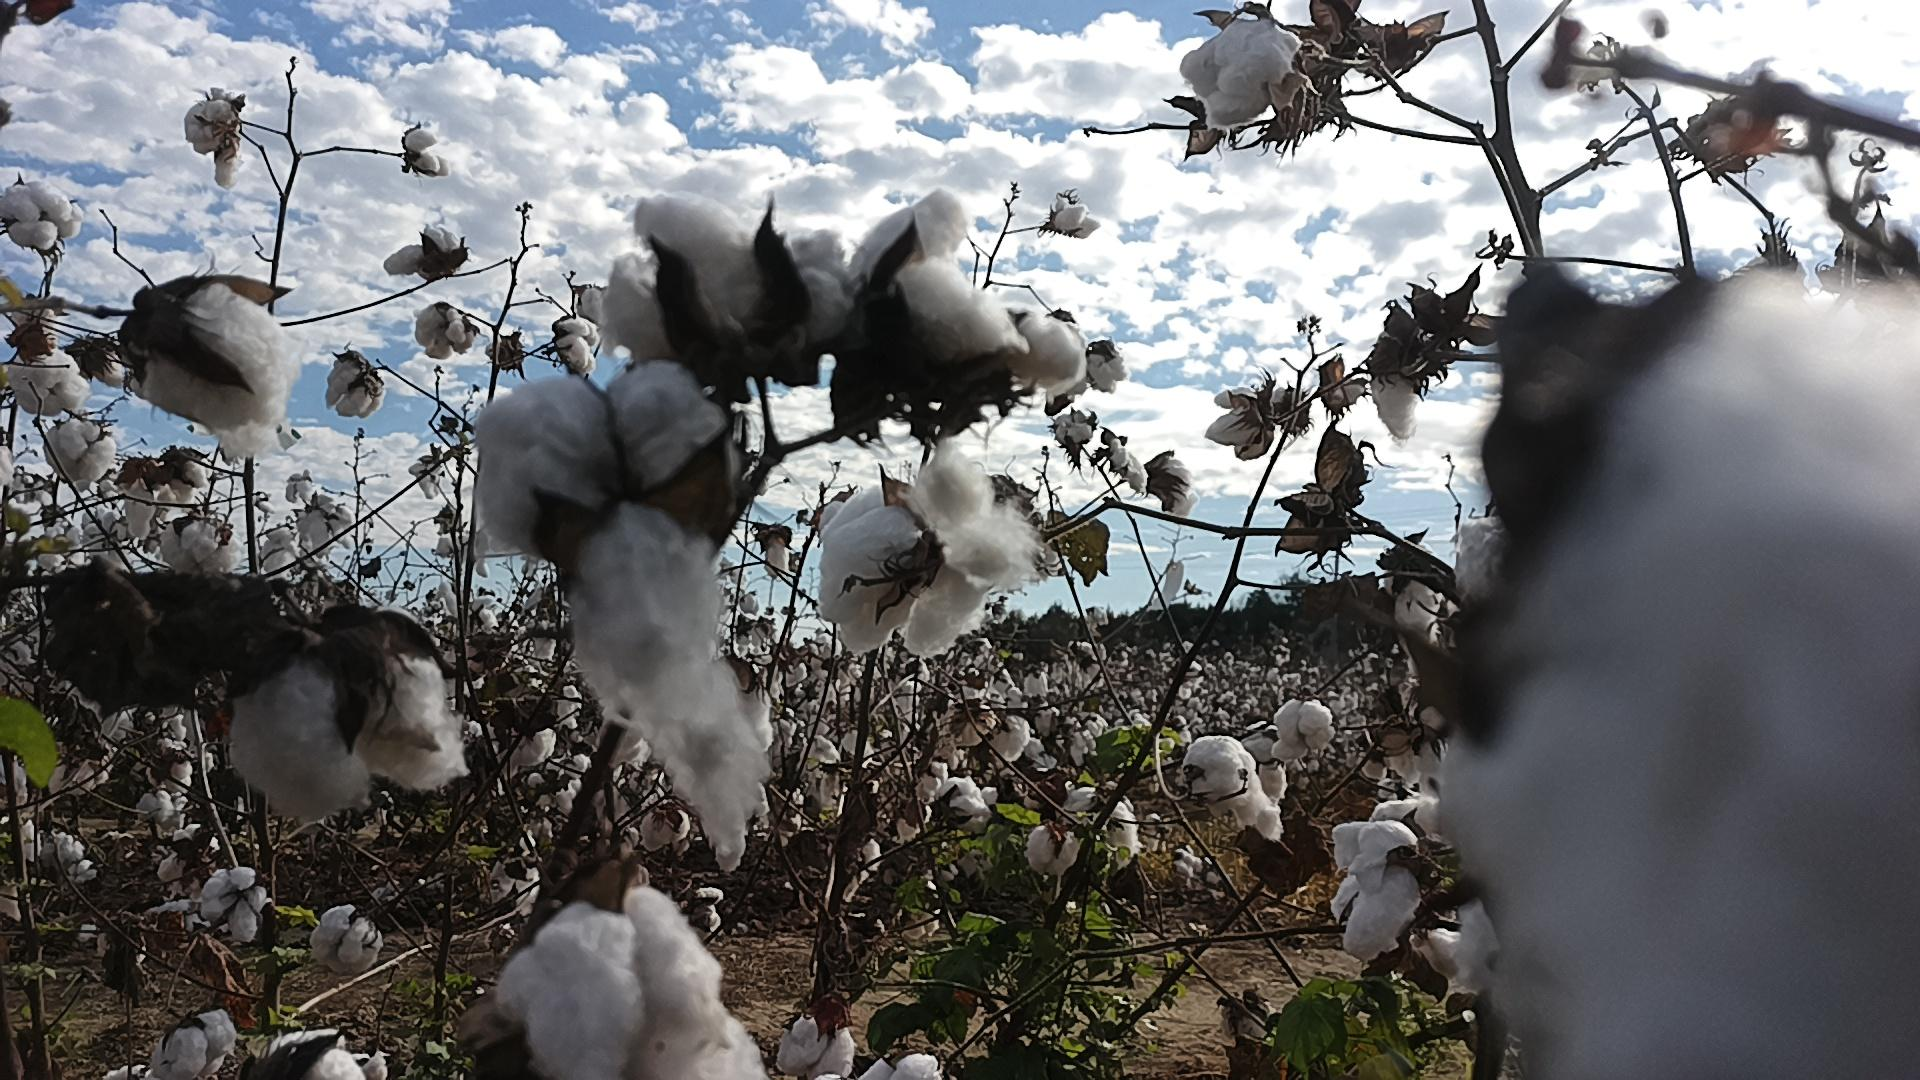cotton_ready: (1439, 269, 1920, 1079), (472, 367, 774, 862), (816, 442, 1040, 654), (227, 633, 468, 824), (603, 191, 852, 372), (497, 886, 727, 1080), (853, 185, 1033, 394), (140, 284, 301, 463), (1331, 800, 1448, 964), (1180, 18, 1300, 127), (1183, 736, 1282, 847), (1029, 789, 1139, 881), (1009, 309, 1091, 409), (127, 452, 206, 541), (306, 902, 389, 980), (684, 1013, 773, 1080), (0, 181, 80, 255), (157, 1010, 239, 1080), (268, 1026, 371, 1080), (196, 869, 270, 944), (1201, 384, 1274, 460), (775, 1014, 856, 1080), (1455, 514, 1511, 607), (186, 96, 240, 189), (11, 353, 88, 417), (1374, 353, 1424, 451), (47, 419, 119, 487), (382, 225, 460, 281), (164, 521, 240, 575), (324, 360, 389, 421), (1276, 700, 1336, 765), (414, 305, 471, 359), (858, 1052, 955, 1080), (560, 318, 599, 377)
